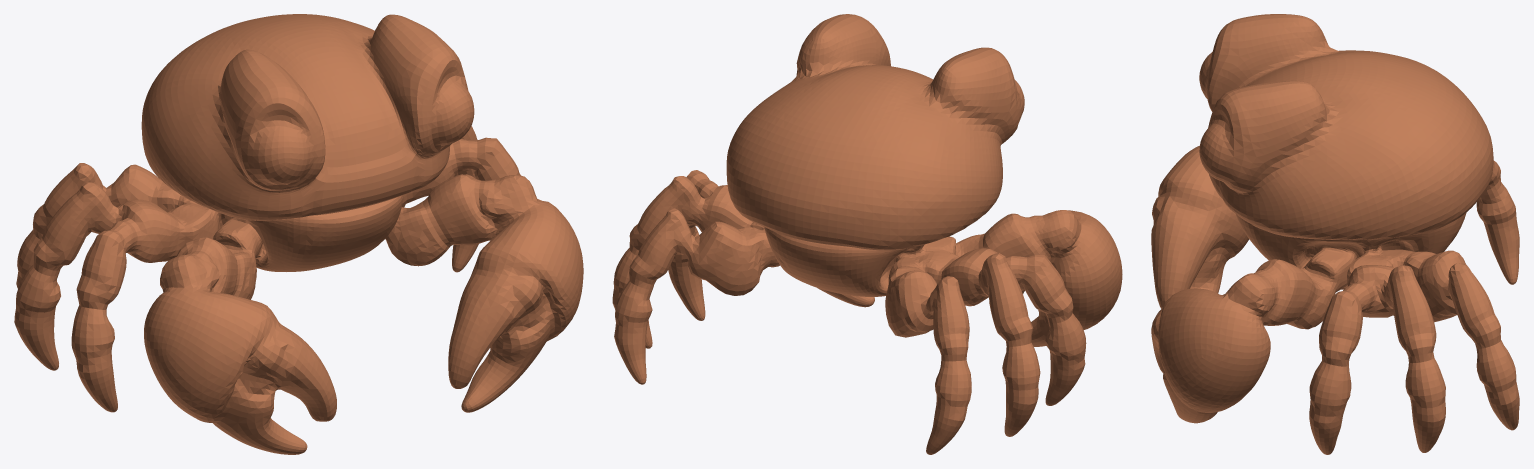
Rendered from crab.glb.
3 renders of one model, left to right at view 1: azimuth 30°, elevation 25°; view 2: azimuth 150°, elevation 25°; view 3: azimuth 270°, elevation 25°, orthographic. The views are drawn at different scales.
Visible parts, largest first — view 1: tripo_node_09fe51e1-45e4-4561-8823-c9310fa78deb 1; view 2: tripo_node_09fe51e1-45e4-4561-8823-c9310fa78deb 1; view 3: tripo_node_09fe51e1-45e4-4561-8823-c9310fa78deb 1.
Boxes of the visible parts, x1,y1,x2,y2 form: tripo_node_09fe51e1-45e4-4561-8823-c9310fa78deb 1: (14,14,583,454); tripo_node_09fe51e1-45e4-4561-8823-c9310fa78deb 1: (612,14,1122,454); tripo_node_09fe51e1-45e4-4561-8823-c9310fa78deb 1: (1151,14,1519,454).
Bounding box in the file's own units: 0.994 × 0.7164 × 0.7268.
